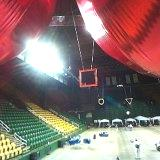Orange_Square_GShape: (78, 68, 98, 88)
Yellow_Circle_GShape: (98, 98, 104, 106)
Yellow_Triangle_Gshape: (125, 98, 134, 104)
